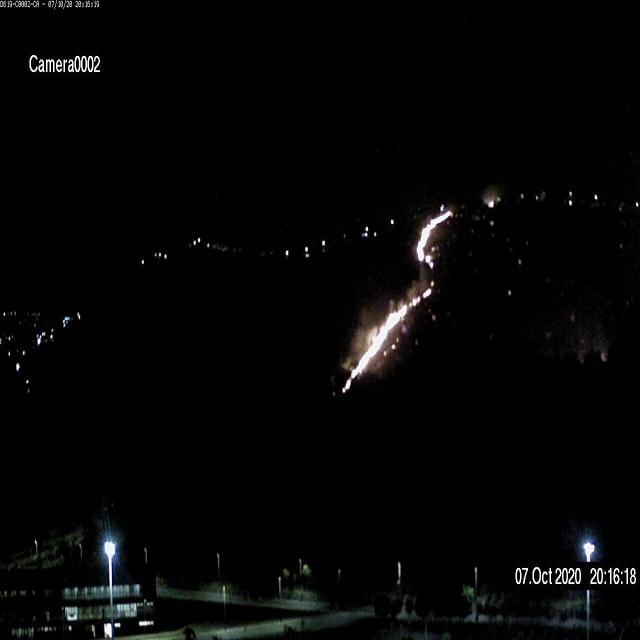Fire: (343, 281, 434, 396), (415, 212, 453, 270)
